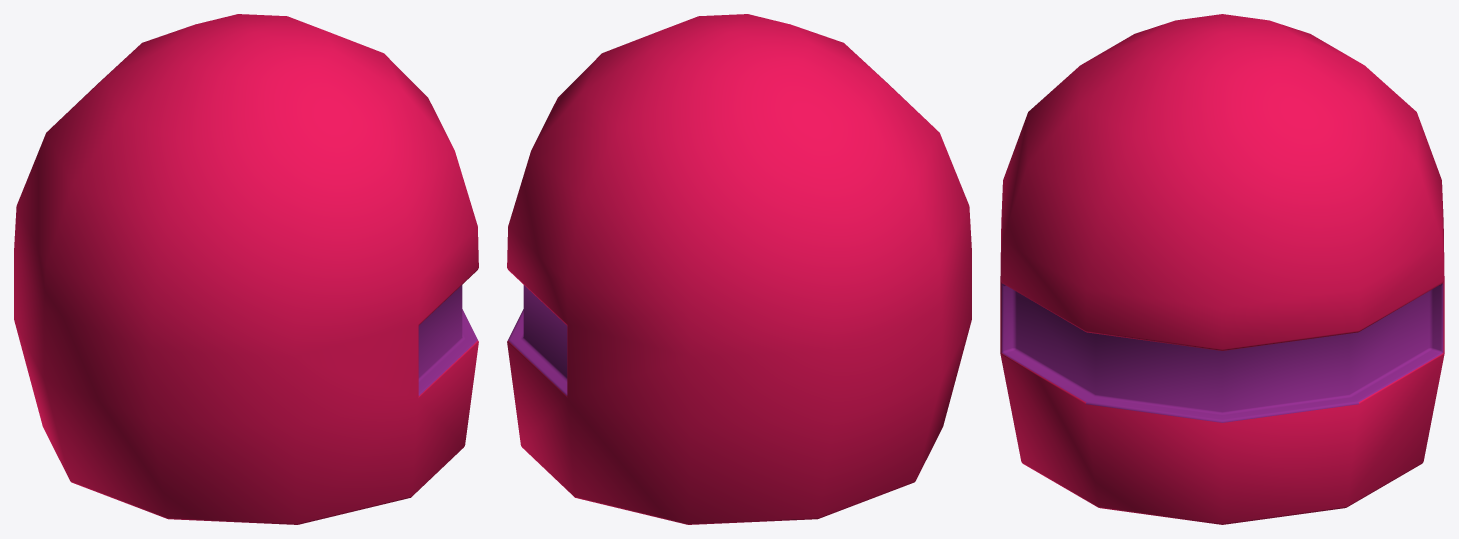
The model's file is SM_Helmet.fbx.
3 renders of one model, left to right at view 1: azimuth 30°, elevation 25°; view 2: azimuth 150°, elevation 25°; view 3: azimuth 270°, elevation 25°, orthographic.
Parts seen in each view (by area): view 1: SM_Helmet; view 2: SM_Helmet; view 3: SM_Helmet.
Boxes of the visible parts, x1,y1,x2,y2 form: SM_Helmet: (14, 14, 478, 524); SM_Helmet: (507, 14, 971, 524); SM_Helmet: (1000, 14, 1444, 524).
Bounding box in the file's own units: 25.71 × 24.54 × 24.63.
1 material, 1 textured.
